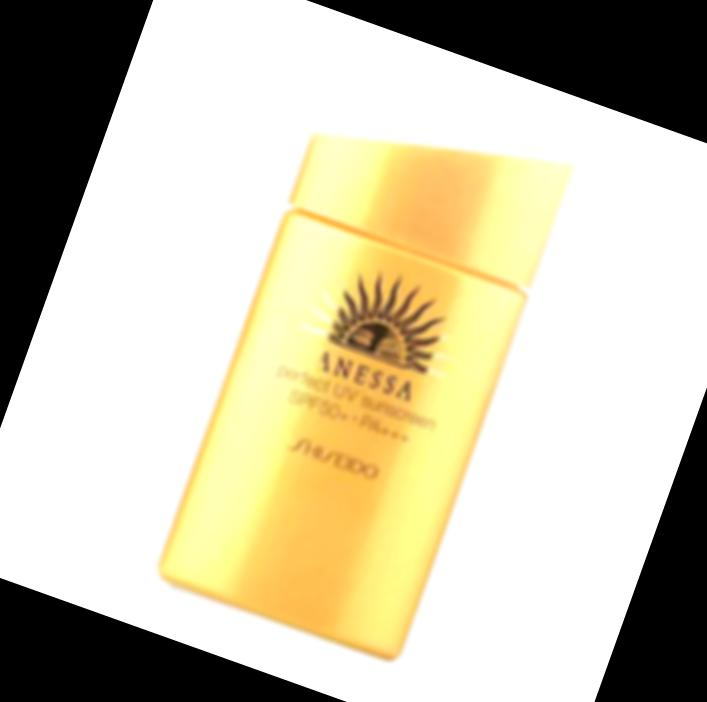cosmetic: (156, 63, 581, 663)
